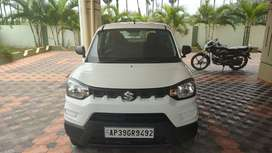AP39GR3492: (104, 127, 154, 138)
